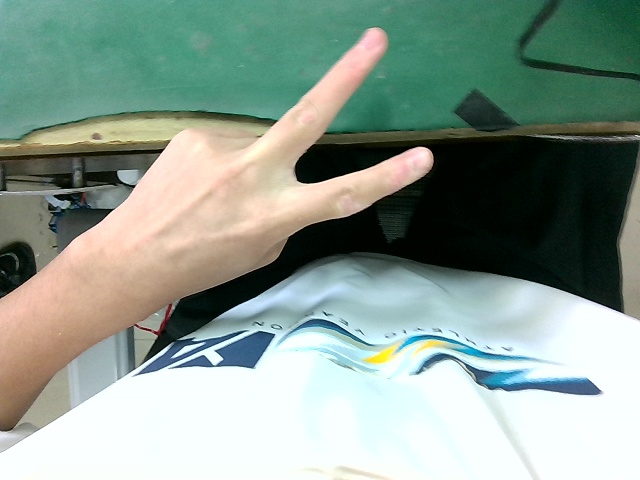scissor: (103, 24, 449, 320)
